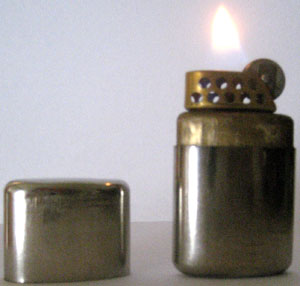Nonrec_Other: (162, 49, 294, 278), (1, 173, 148, 274)
